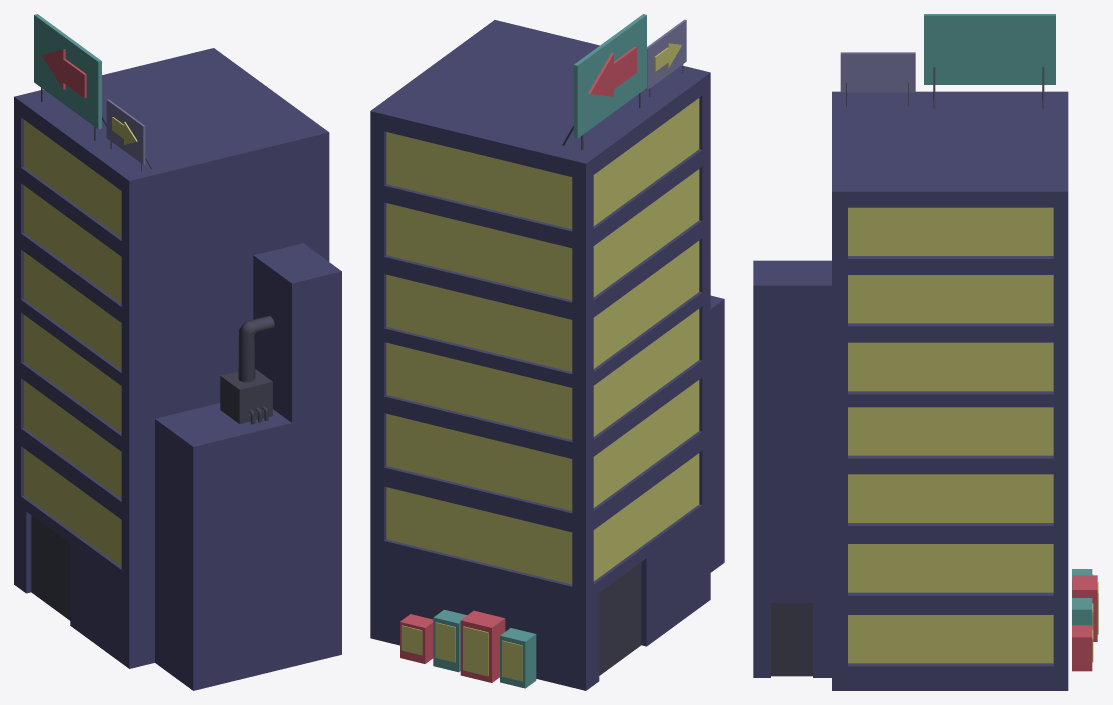
The model's file is SM_House_2_1.fbx.
The picture shows the model from 3 angles, left to right: view 1: azimuth 30°, elevation 25°; view 2: azimuth 150°, elevation 25°; view 3: azimuth 270°, elevation 25°; orthographic projection. The views are drawn at different scales.
Visible parts, largest first — view 1: SM_House_2_1; view 2: SM_House_2_1; view 3: SM_House_2_1.
Part boxes in pixels (bbox=[...]): SM_House_2_1: bbox=[14, 14, 341, 690]; SM_House_2_1: bbox=[370, 14, 724, 690]; SM_House_2_1: bbox=[753, 14, 1098, 690].
Size of the model in its own units: 6 by 16.37 by 8.77.
